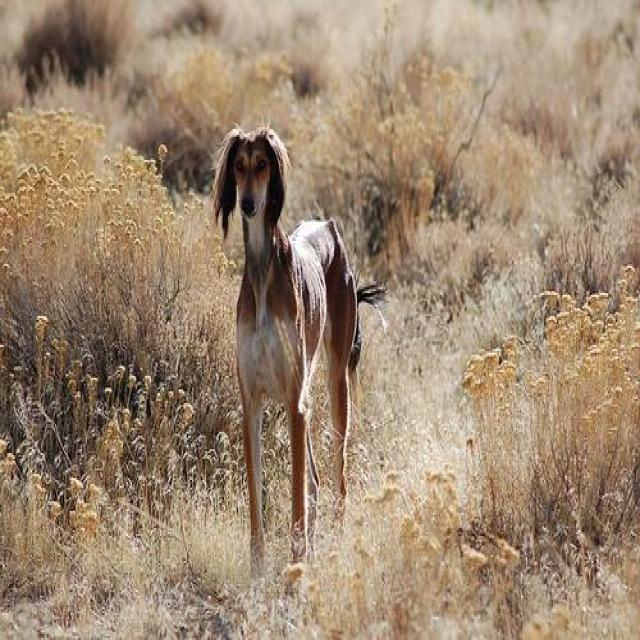saluki: (208, 124, 386, 584)
